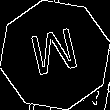M_S: (27, 25, 83, 85)
